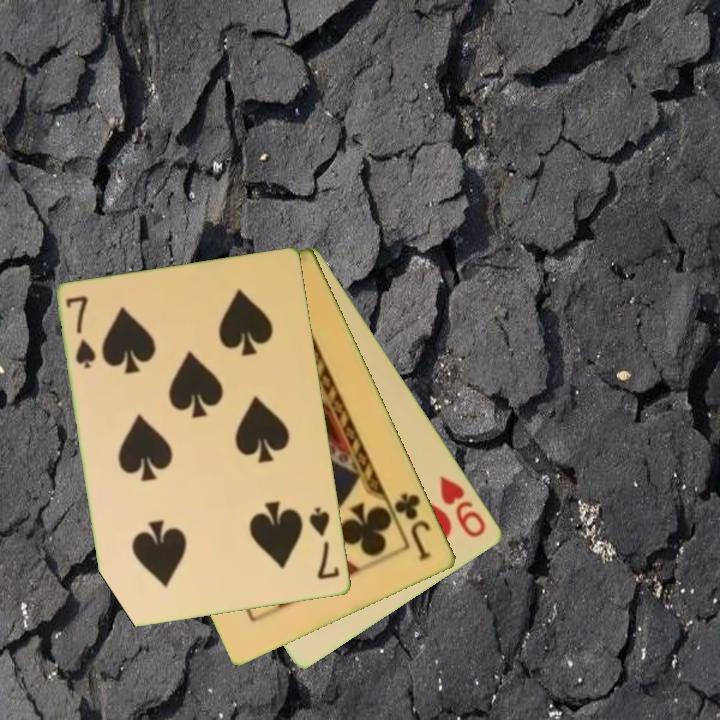7s: (306, 503, 343, 583), (63, 293, 99, 372)
9h: (437, 472, 490, 541)
Jc: (391, 489, 435, 564)
